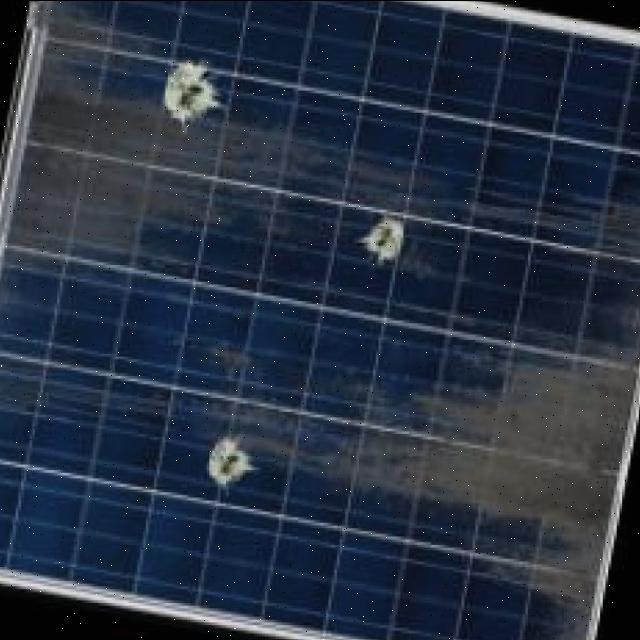Surface Contaminant: (221, 303, 640, 640), (0, 2, 439, 308), (164, 65, 221, 116), (206, 437, 252, 484), (365, 218, 406, 264)
